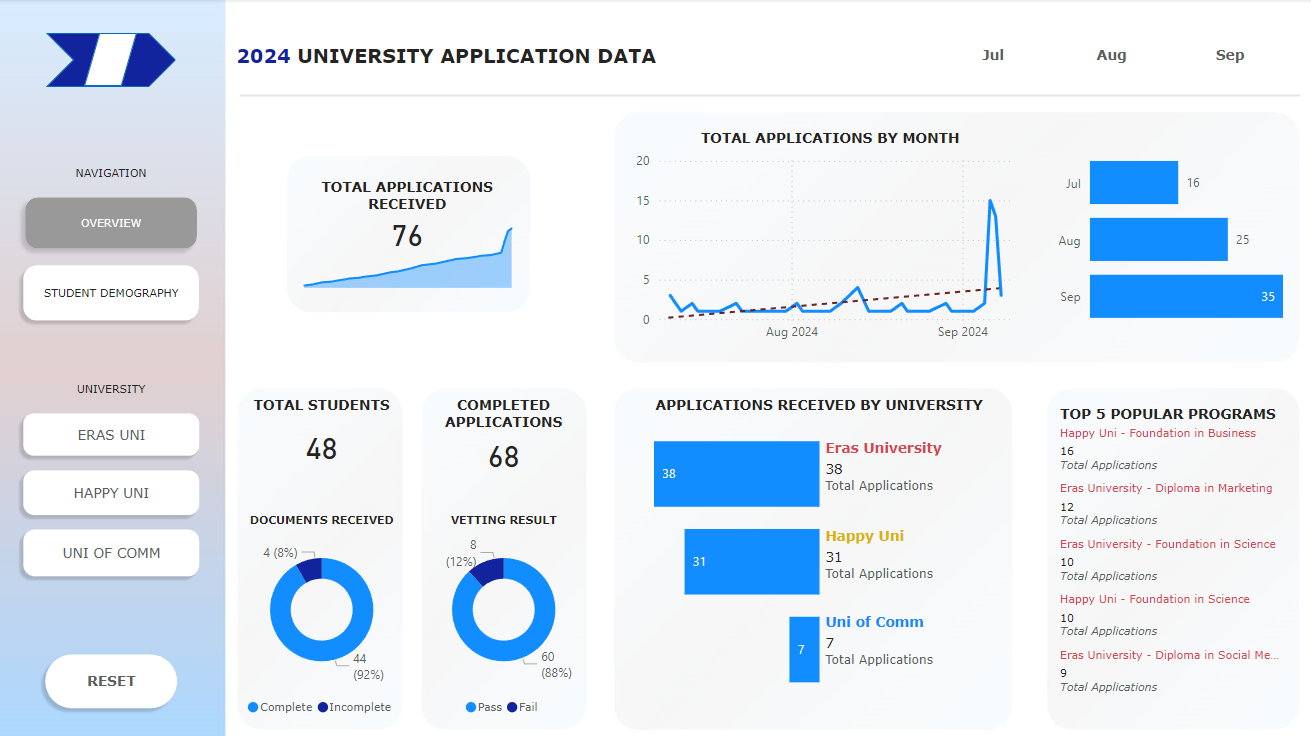

The page's visual inventory and layout, read from the dashboard file:
{"tool":"powerbi","page":{"name":"OVERVIEW","canvas":[1280,720],"ordinal":0},"visuals":[{"type":"image","box":[0,0,1280,720],"z":0},{"type":"areaChart","fields":{"Category":["Application Details.Date"],"Y":["Application Details.Cumulative Application"]},"box":[284,206.2,231.5,80.7],"z":1000},{"type":"textbox","box":[228,38,453,41],"z":2000},{"type":"card","title":"TOTAL STUDENTS","fields":{"Values":["Application Details.Total Students"]},"box":[226.6,384.2,178,80.7],"z":3000},{"type":"card","title":"TOTAL APPLICATIONS RECEIVED","fields":{"Values":["Application Details.Total Applications"]},"box":[309.3,172.1,179,79.8],"z":4000},{"type":"slicer","fields":{"Values":["Calendar.Mon"]},"box":[886.1,33.1,393.9,43.8],"z":5000},{"type":"clusteredBarChart","title":"Applications by University","fields":{"Category":["Application Details.University"],"Y":["Application Details.Total Applications"]},"box":[639,422.1,161.5,247.1],"z":6000},{"type":"multiRowCard","fields":{"Values":["Application Details.Total Applications","Application Details.University"]},"box":[800.5,423.1,170.2,74.9],"z":7000},{"type":"multiRowCard","fields":{"Values":["Application Details.Total Applications","Application Details.University"]},"box":[800.5,508.7,170.2,74.9],"z":8000},{"type":"multiRowCard","fields":{"Values":["Application Details.Total Applications","Application Details.University"]},"box":[800.5,592.3,170.2,74.9],"z":9000},{"type":"multiRowCard","title":"TOP 5 POPULAR PROGRAMS","fields":{"Values":["Application Details.University Program","Application Details.Total Applications"]},"box":[1034,396,222,293],"z":10000},{"type":"textbox","box":[0,153.7,221.8,31.1],"z":11000},{"type":"pageNavigator","box":[18.1,184.3,185.4,138],"z":12000},{"type":"shape","box":[236.4,78.8,1031,30.2],"z":13000},{"type":"textbox","box":[603,380.3,392.9,31.1],"z":14000},{"type":"lineChart","title":"TOTAL APPLICATIONS BY MONTH","fields":{"Category":["Application Details.Date"],"Y":["Application Details.Total Applications"]},"box":[613.7,127,392.9,214],"z":15000},{"type":"clusteredBarChart","title":"Applications by University","fields":{"Category":["Calendar.Mon"],"Y":["Application Details.Total Applications"]},"box":[1029,127,221.8,207.2],"z":16000},{"type":"card","title":"COMPLETED APPLICATIONS","fields":{"Values":["Application Details.Vetted Count"]},"box":[408.5,384.2,168.3,80.7],"z":17000},{"type":"donutChart","title":"VETTING RESULT","fields":{"Y":["Application Details.Total Applications"],"Category":["Application Details.Result"]},"box":[408.5,500.1,168.7,206.7],"z":18000},{"type":"donutChart","title":"DOCUMENTS RECEIVED","fields":{"Category":["Document Submission.Document Submission Status"],"Y":["Application Details.Total Students"]},"box":[231,500.1,168.7,206.7],"z":19000},{"type":"actionButton","box":[39.6,629.8,142.5,66.7],"z":20000},{"type":"actionButton","box":[18.1,395.8,185.4,55.4],"z":21000},{"type":"actionButton","box":[18.1,451.2,185.4,57.7],"z":22000},{"type":"actionButton","box":[18.1,508.8,185.4,59.9],"z":23000},{"type":"textbox","box":[0,364.1,221.6,30.5],"z":24000},{"type":"shape","box":[47.7,33.1,126.4,52.5],"z":25000},{"type":"shape","box":[84.6,33.1,51.6,51.6],"z":26000}]}

Visuals, with their boxes in screenshot pixels (x1, y1, x2, y2), scaled from the page's 1280x720 canvas onto the 1311x736 screenshot:
image: {"x1": 0, "y1": 0, "x2": 1310, "y2": 735}
areaChart - Application Details.Date x Application Details.Cumulative Application: {"x1": 291, "y1": 211, "x2": 528, "y2": 293}
textbox: {"x1": 234, "y1": 39, "x2": 697, "y2": 81}
"TOTAL STUDENTS" card: {"x1": 232, "y1": 393, "x2": 414, "y2": 475}
"TOTAL APPLICATIONS RECEIVED" card: {"x1": 317, "y1": 176, "x2": 500, "y2": 257}
slicer - Calendar.Mon: {"x1": 908, "y1": 34, "x2": 1310, "y2": 79}
"Applications by University" clusteredBarChart: {"x1": 654, "y1": 431, "x2": 820, "y2": 684}
multiRowCard - Application Details.Total Applications x Application Details.University: {"x1": 820, "y1": 433, "x2": 994, "y2": 509}
multiRowCard - Application Details.Total Applications x Application Details.University: {"x1": 820, "y1": 520, "x2": 994, "y2": 597}
multiRowCard - Application Details.Total Applications x Application Details.University: {"x1": 820, "y1": 605, "x2": 994, "y2": 682}
"TOP 5 POPULAR PROGRAMS" multiRowCard: {"x1": 1059, "y1": 405, "x2": 1286, "y2": 704}
textbox: {"x1": 0, "y1": 157, "x2": 227, "y2": 189}
pageNavigator: {"x1": 19, "y1": 188, "x2": 208, "y2": 329}
shape: {"x1": 242, "y1": 81, "x2": 1298, "y2": 111}
textbox: {"x1": 618, "y1": 389, "x2": 1020, "y2": 421}
"TOTAL APPLICATIONS BY MONTH" lineChart: {"x1": 629, "y1": 130, "x2": 1031, "y2": 349}
"Applications by University" clusteredBarChart: {"x1": 1054, "y1": 130, "x2": 1281, "y2": 342}
"COMPLETED APPLICATIONS" card: {"x1": 418, "y1": 393, "x2": 591, "y2": 475}
"VETTING RESULT" donutChart: {"x1": 418, "y1": 511, "x2": 591, "y2": 723}
"DOCUMENTS RECEIVED" donutChart: {"x1": 237, "y1": 511, "x2": 409, "y2": 723}
actionButton: {"x1": 41, "y1": 644, "x2": 187, "y2": 712}
actionButton: {"x1": 19, "y1": 405, "x2": 208, "y2": 461}
actionButton: {"x1": 19, "y1": 461, "x2": 208, "y2": 520}
actionButton: {"x1": 19, "y1": 520, "x2": 208, "y2": 581}
textbox: {"x1": 0, "y1": 372, "x2": 227, "y2": 403}
shape: {"x1": 49, "y1": 34, "x2": 178, "y2": 88}
shape: {"x1": 87, "y1": 34, "x2": 139, "y2": 87}
